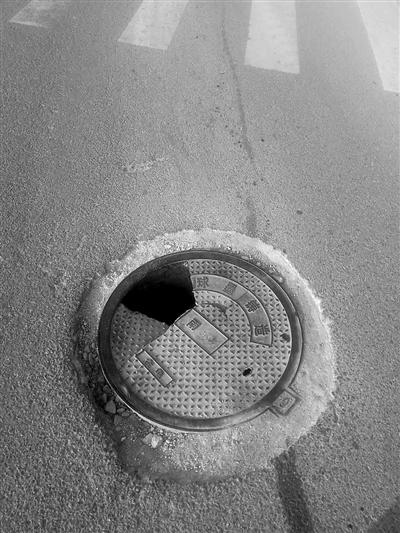wellcover: (70, 243, 335, 431)
